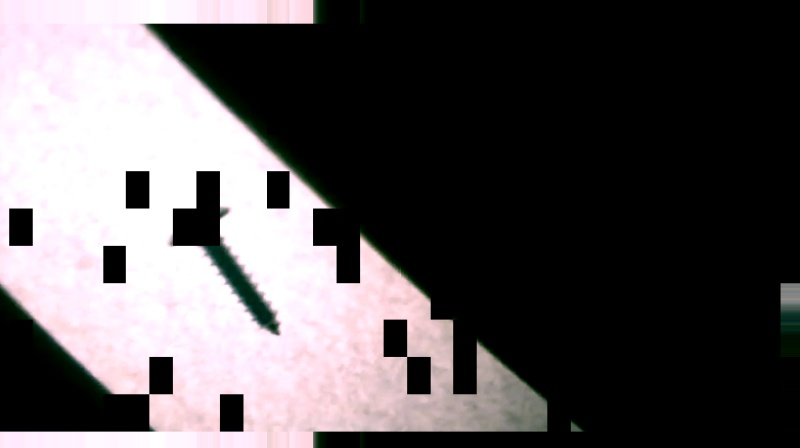S003: (165, 202, 284, 339)
